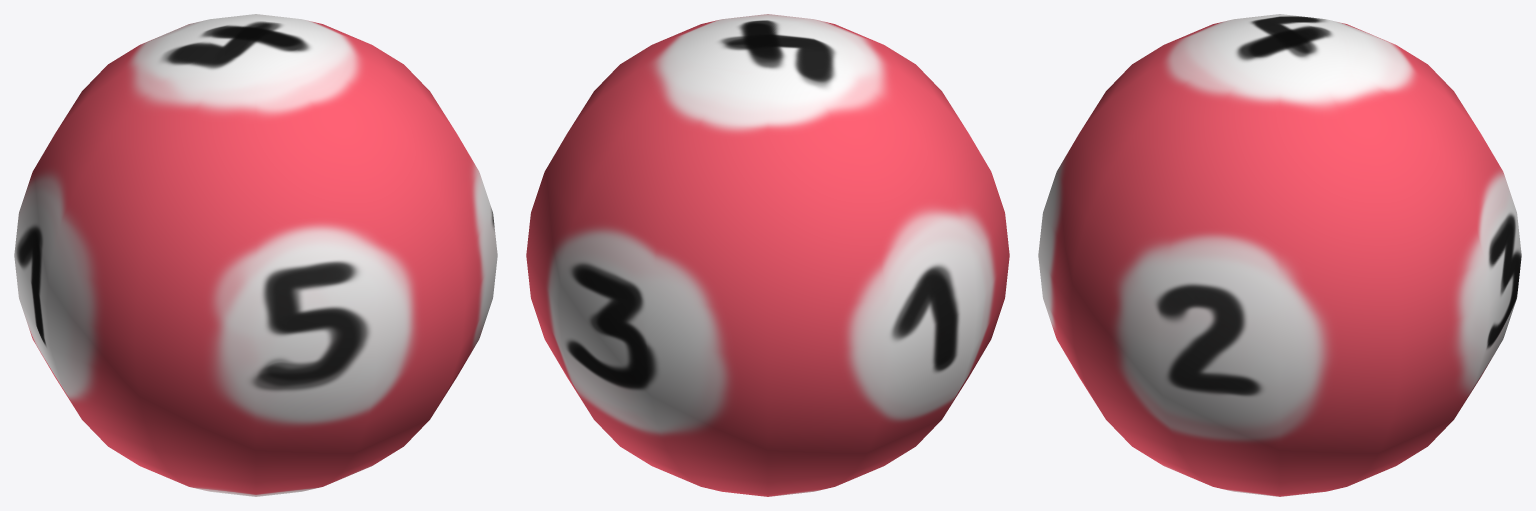
File: Note_desirabilite.dae
The picture shows the model from 3 angles, left to right: view 1: azimuth 30°, elevation 25°; view 2: azimuth 150°, elevation 25°; view 3: azimuth 270°, elevation 25°; orthographic projection.
Visible parts, largest first — view 1: boule_note_desirabilite; view 2: boule_note_desirabilite; view 3: boule_note_desirabilite.
Boxes of the visible parts, x1,y1,x2,y2 form: boule_note_desirabilite: (14, 14, 497, 496); boule_note_desirabilite: (526, 14, 1009, 496); boule_note_desirabilite: (1038, 14, 1521, 496).
Bounding box in the file's own units: 1.09 × 1.09 × 1.09.
Materials: 1 (1 with a texture image).
